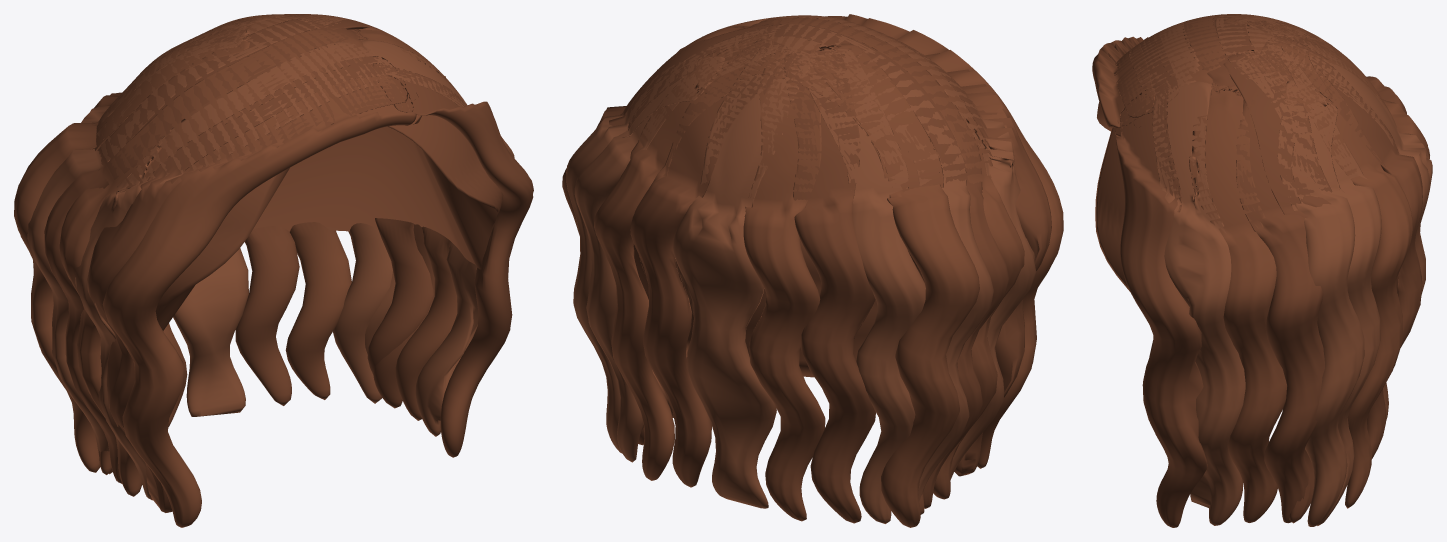
Rendered from Feminine-curls-headband251-hair.glb.
3 views of the same model, side by side, from view 1: azimuth 30°, elevation 25°; view 2: azimuth 150°, elevation 25°; view 3: azimuth 270°, elevation 25° (orthographic). The views are drawn at different scales.
Visible parts, largest first — view 1: 226 hair / Hair / sculpted 0.004, 226 hair / Hair / sculpted 1.008, 226 hair / Hair / sculpted 2.004, 226 hair / Hair / sculpted 1.007; view 2: 226 hair / Hair / sculpted 0.004, 226 hair / Hair / sculpted 2.004, 226 hair / Hair / sculpted 1.008, 226 hair / Hair / sculpted 1.007; view 3: 226 hair / Hair / sculpted 1.008, 226 hair / Hair / sculpted 2.004, 226 hair / Hair / sculpted 0.004, 226 hair / Hair / sculpted 1.007.
Boxes of the visible parts, x1,y1,x2,y2 form: 226 hair / Hair / sculpted 0.004: (14, 14, 457, 527); 226 hair / Hair / sculpted 1.008: (44, 14, 533, 512); 226 hair / Hair / sculpted 2.004: (27, 14, 514, 500); 226 hair / Hair / sculpted 1.007: (155, 115, 503, 330); 226 hair / Hair / sculpted 0.004: (594, 14, 1063, 527); 226 hair / Hair / sculpted 2.004: (566, 15, 1036, 523); 226 hair / Hair / sculpted 1.008: (562, 15, 1051, 523); 226 hair / Hair / sculpted 1.007: (633, 239, 877, 377); 226 hair / Hair / sculpted 1.008: (1108, 14, 1422, 527); 226 hair / Hair / sculpted 2.004: (1129, 14, 1432, 526); 226 hair / Hair / sculpted 0.004: (1092, 14, 1429, 522); 226 hair / Hair / sculpted 1.007: (1095, 102, 1398, 291).
Size of the model in its own units: 1.13 by 1.09 by 0.7898.
